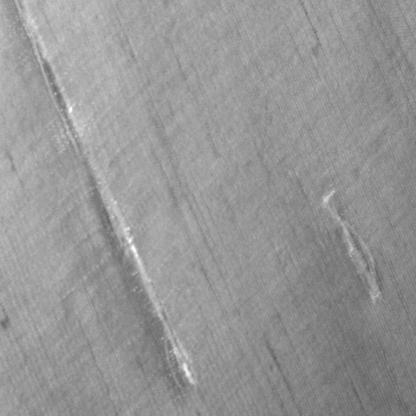hole: (8, 0, 200, 400), (318, 184, 384, 310)
